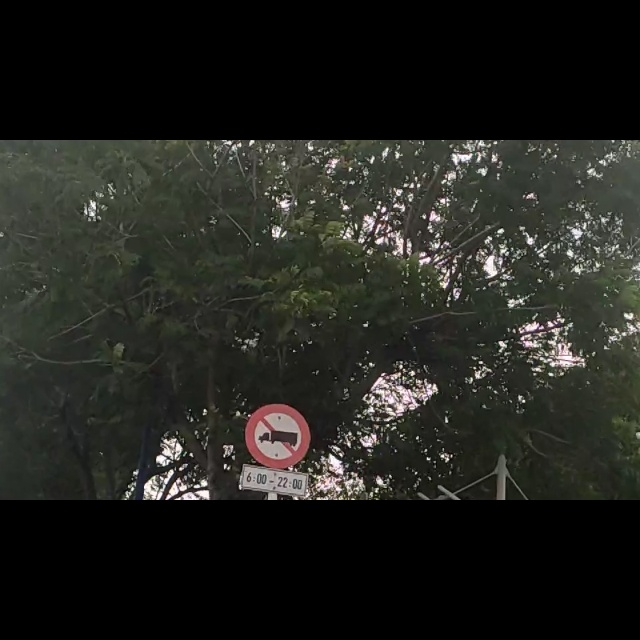bien_cam: (242, 472, 308, 625)
